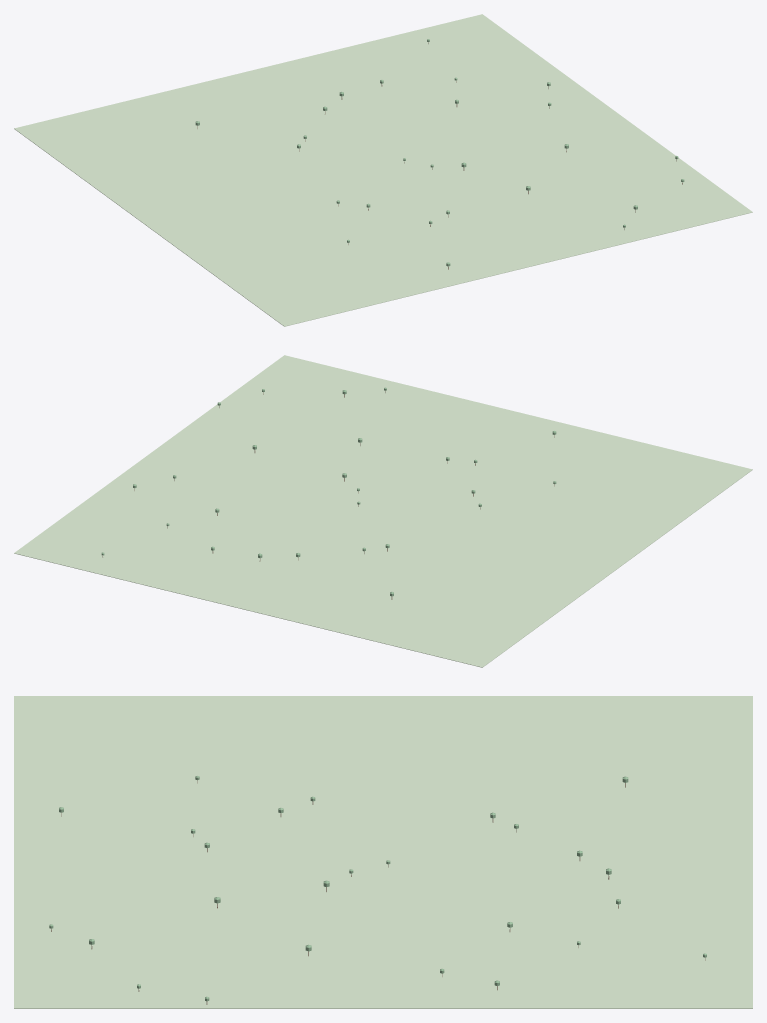
File: chunk_0_6_low.glb
3 renders of one model, top to bottom at view 1: azimuth 30°, elevation 25°; view 2: azimuth 150°, elevation 25°; view 3: azimuth 270°, elevation 25°, orthographic. The views are drawn at different scales.
Parts seen in each view (by area): view 1: city_grass; view 2: city_grass; view 3: city_grass, city_foliage_dark.
Boxes of the visible parts, <box> form: city_grass: <box>14,14,752,326</box>; city_grass: <box>14,355,752,667</box>; city_grass: <box>14,696,752,1008</box>; city_foliage_dark: <box>49,776,706,1001</box>.
Size of the model in its own units: 512 by 9.21 by 512.
